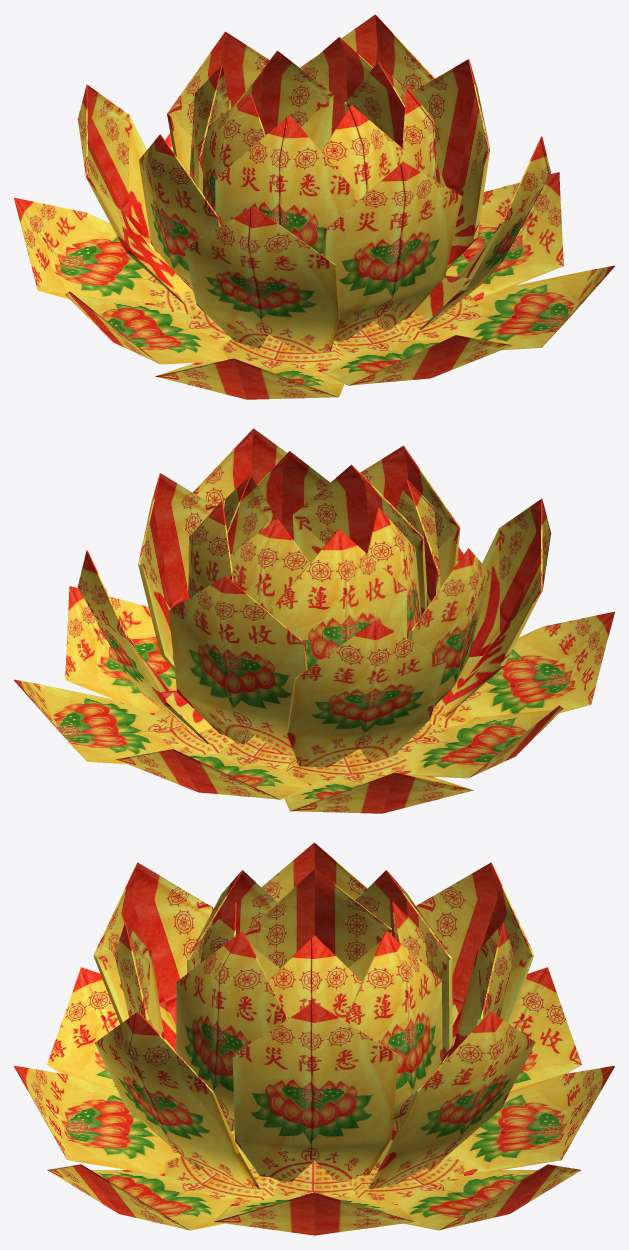
The model's file is paper_lotus_final.FBX.
3 renders of one model, top to bottom at view 1: azimuth 30°, elevation 25°; view 2: azimuth 150°, elevation 25°; view 3: azimuth 270°, elevation 25°, orthographic. The views are drawn at different scales.
Parts seen in each view (by area): view 1: petal_016, petal_012, petal_008, petal_022, petal_013, petal_024, petal_011, petal_021, petal_017, petal_020, petal_019, petal_009 (+10 smaller); view 2: petal_010, petal_013, petal_021, petal_005, petal_016, petal_023, petal_022, petal_011, petal_019, petal_017, petal_018, petal_004 (+10 smaller); view 3: petal_011, petal_014, petal_015, petal_007, petal_006, petal_016, petal_018, petal_020, petal_023, petal_024, petal_001, petal_013 (+11 smaller).
Boxes of the visible parts, <box> form: petal_016: <box>184,206,339,353</box>; petal_012: <box>323,162,461,341</box>; petal_008: <box>215,115,354,255</box>; petal_022: <box>14,197,200,314</box>; petal_013: <box>77,84,191,302</box>; petal_024: <box>394,265,614,350</box>; petal_011: <box>412,59,489,269</box>; petal_021: <box>155,334,344,399</box>; petal_017: <box>65,291,231,364</box>; petal_020: <box>317,321,512,385</box>; petal_019: <box>445,172,563,301</box>; petal_009: <box>139,134,222,291</box>; petal_010: <box>168,576,307,754</box>; petal_013: <box>286,620,446,767</box>; petal_021: <box>427,611,614,728</box>; petal_005: <box>271,529,407,668</box>; petal_016: <box>437,498,551,716</box>; petal_023: <box>14,679,234,764</box>; petal_022: <box>284,748,473,813</box>; petal_011: <box>138,473,215,670</box>; petal_019: <box>65,586,176,715</box>; petal_017: <box>397,705,563,778</box>; petal_018: <box>116,735,311,799</box>; petal_004: <box>292,464,426,615</box>; petal_011: <box>232,1002,398,1181</box>; petal_014: <box>368,1012,535,1189</box>; petal_015: <box>95,1012,259,1189</box>; petal_007: <box>176,931,287,1131</box>; petal_006: <box>344,931,442,1131</box>; petal_016: <box>93,862,213,1051</box>; petal_018: <box>447,1065,614,1175</box>; petal_020: <box>14,1065,181,1175</box>; petal_023: <box>350,1156,581,1230</box>; petal_024: <box>47,1156,278,1230</box>; petal_001: <box>245,869,391,981</box>; petal_013: <box>416,862,534,1062</box>.
Bounding box in the file's own units: 0.2178 × 0.2178 × 0.1062.
1 material, 1 textured.
